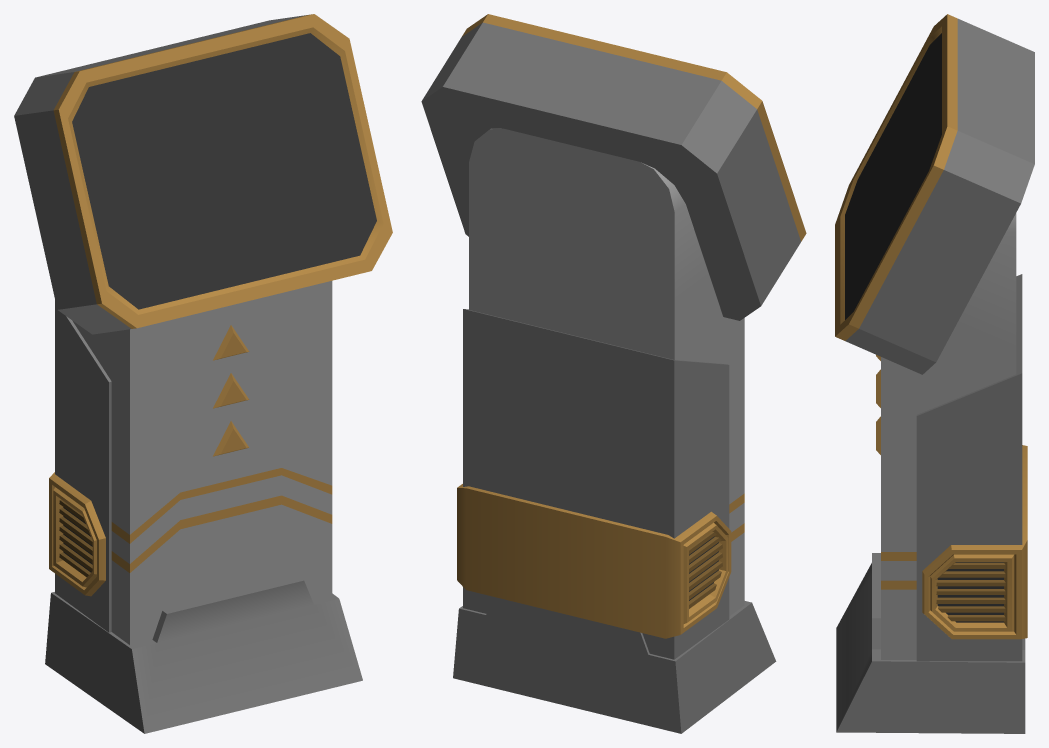
Rendered from Props_ComputerSmall.glb.
3 views of the same model, side by side, from view 1: azimuth 30°, elevation 25°; view 2: azimuth 150°, elevation 25°; view 3: azimuth 270°, elevation 25° (orthographic). The views are drawn at different scales.
Visible parts, largest first — view 1: DarkAccent; view 2: DarkAccent; view 3: DarkAccent.
Part boxes in pixels (x1,y1,x2,y2): DarkAccent: (14,14,392,733); DarkAccent: (421,14,806,733); DarkAccent: (835,14,1034,733).
Bounding box in the file's own units: 0.7511 × 1.54 × 0.4564.
Materials: 1 (1 with a texture image).
